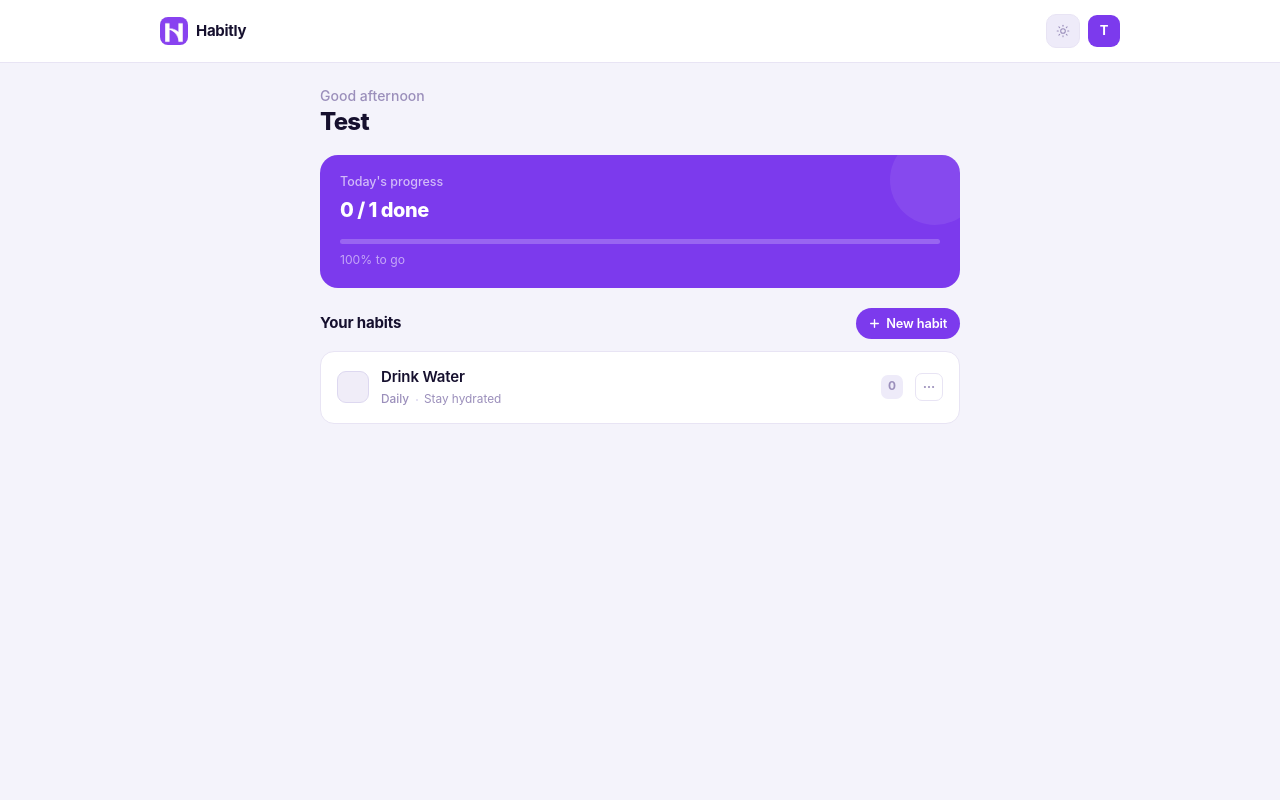
it: habit form › deletes a habit only after explicit confirmation
Expected: the element with test id "habit-card-drink-water" is shown, [320,351,960,424]
Click the button named "Habit options": {"x": 929, "y": 387} [915,373,943,401]
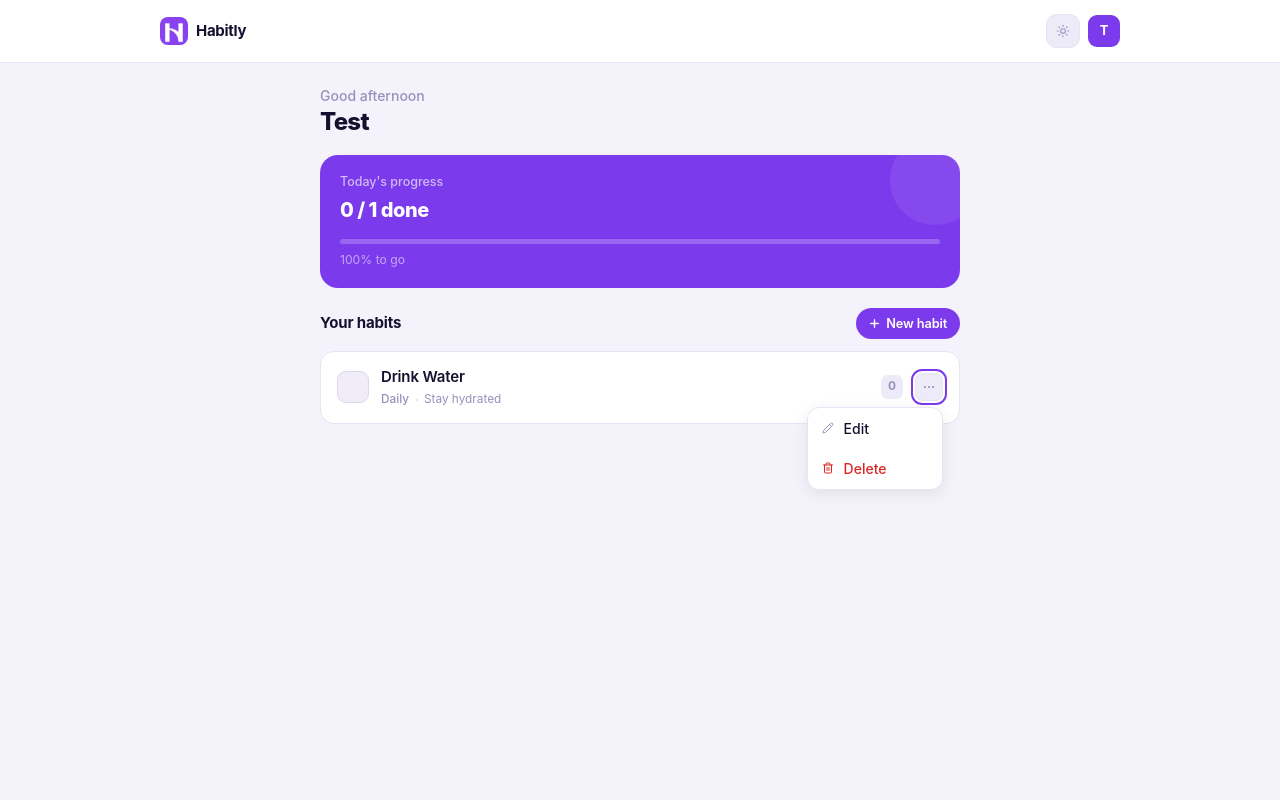
Click the button with test id "habit-delete-drink-water": {"x": 875, "y": 468} [808,448,942,489]
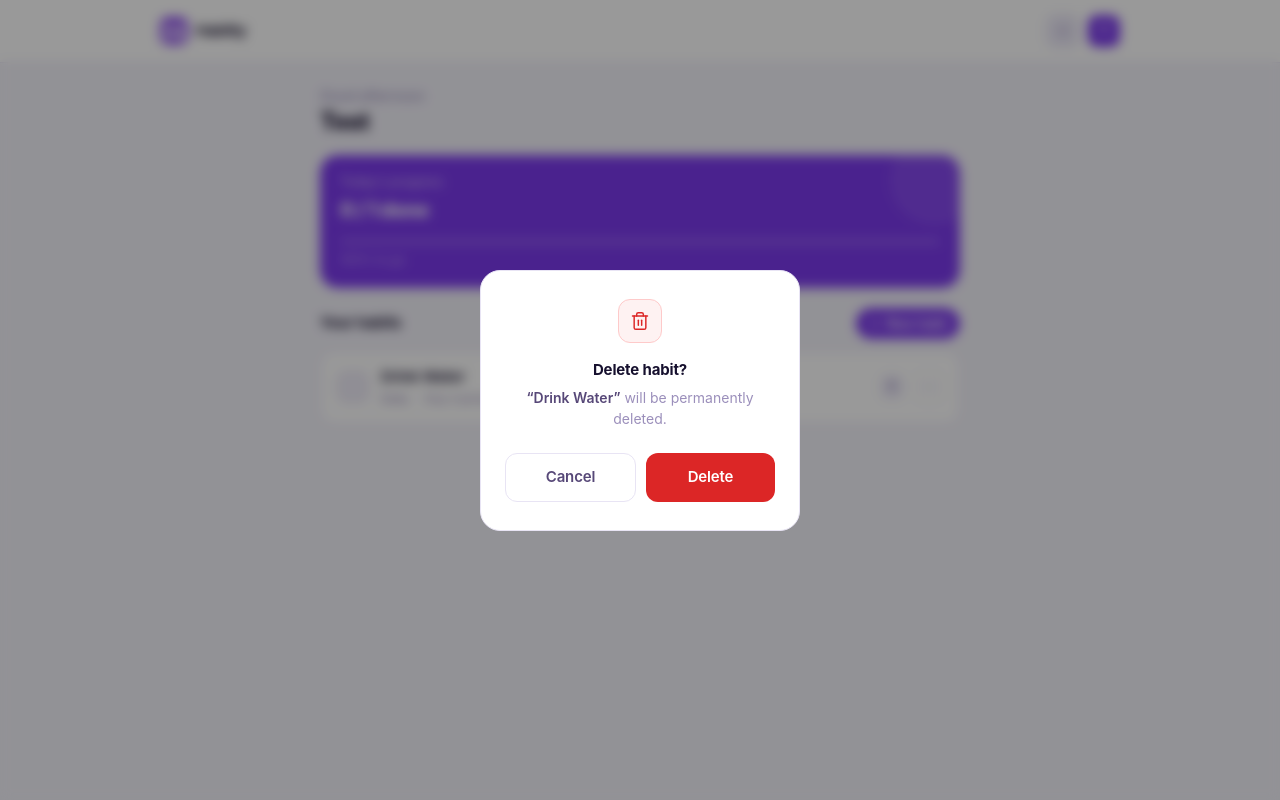
Expected: the element with test id "habit-card-drink-water" is shown, [320,351,960,424]
Expected: the button with test id "confirm-delete-button" is shown
Click the button with test id "confirm-delete-button": {"x": 710, "y": 477} [646,453,775,502]
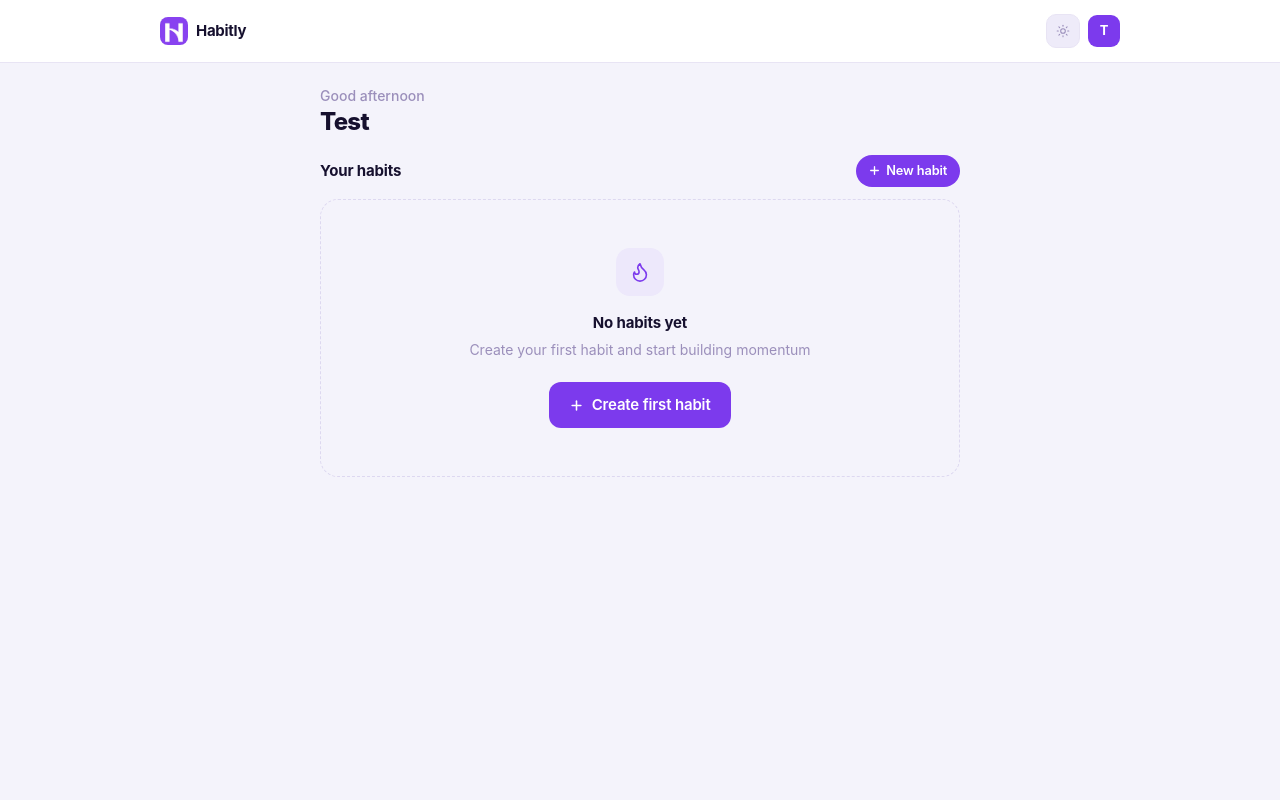
Expected: the element with test id "habit-card-drink-water" is gone
